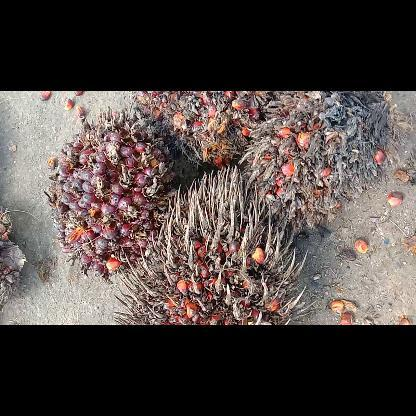TBS masak: (45, 107, 195, 280), (133, 91, 275, 169)
Terlalu masak: (115, 164, 309, 324), (239, 91, 397, 233)
